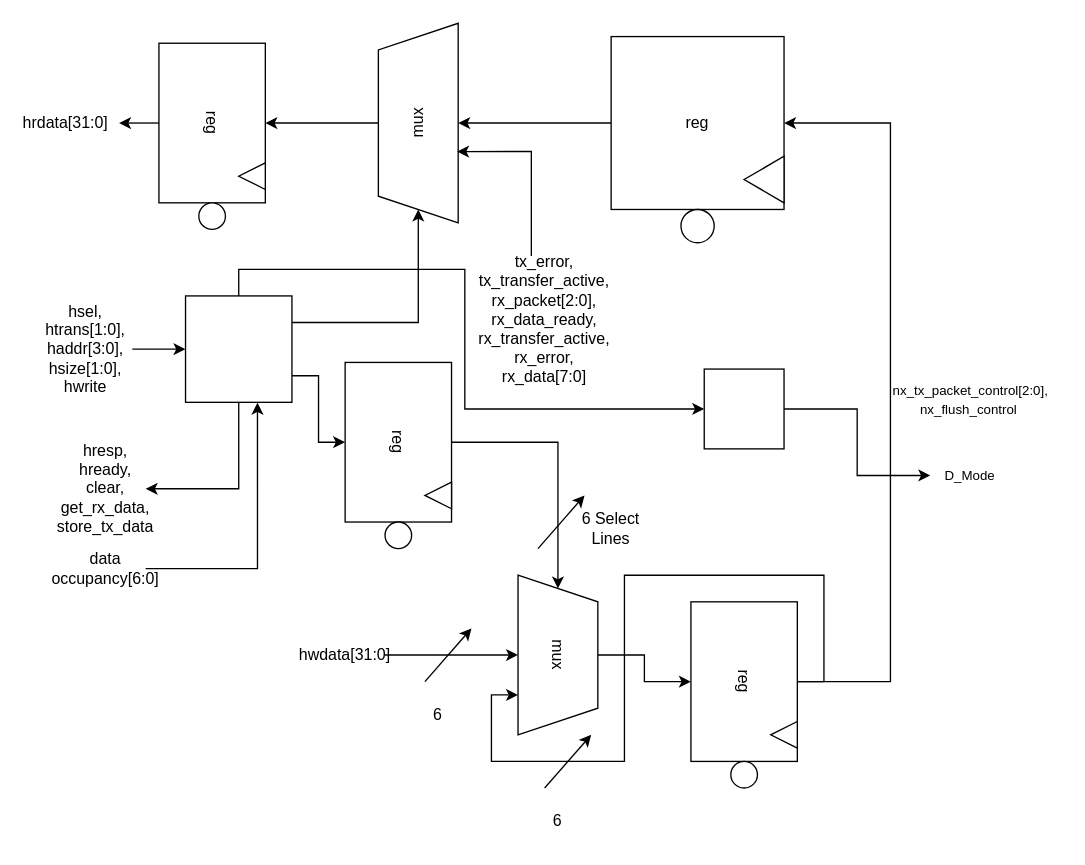
Image size: 1085x865. Some labels were removed from this diagram. Each missing label, with the centre of its shape:
Address Mapping and Logic Controller: the point at 238,348
D Mode Logic: the point at 743,408
